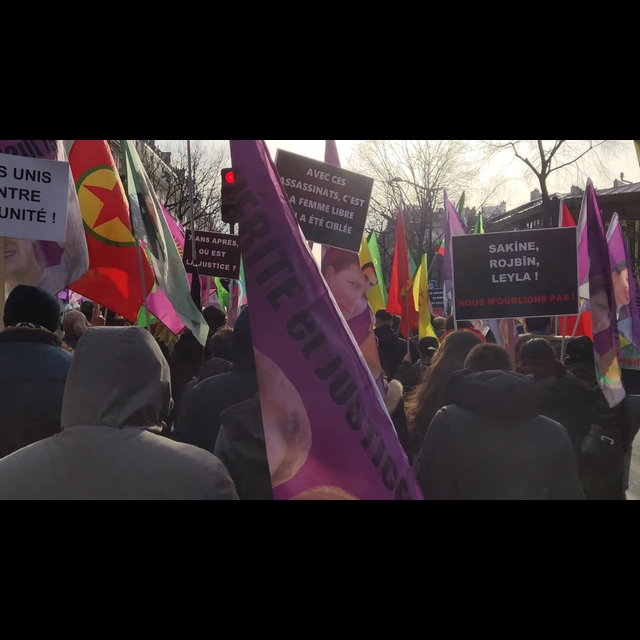PKK: (75, 161, 136, 268)
